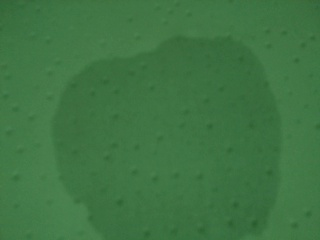Water_detected: (86, 67, 245, 237)
